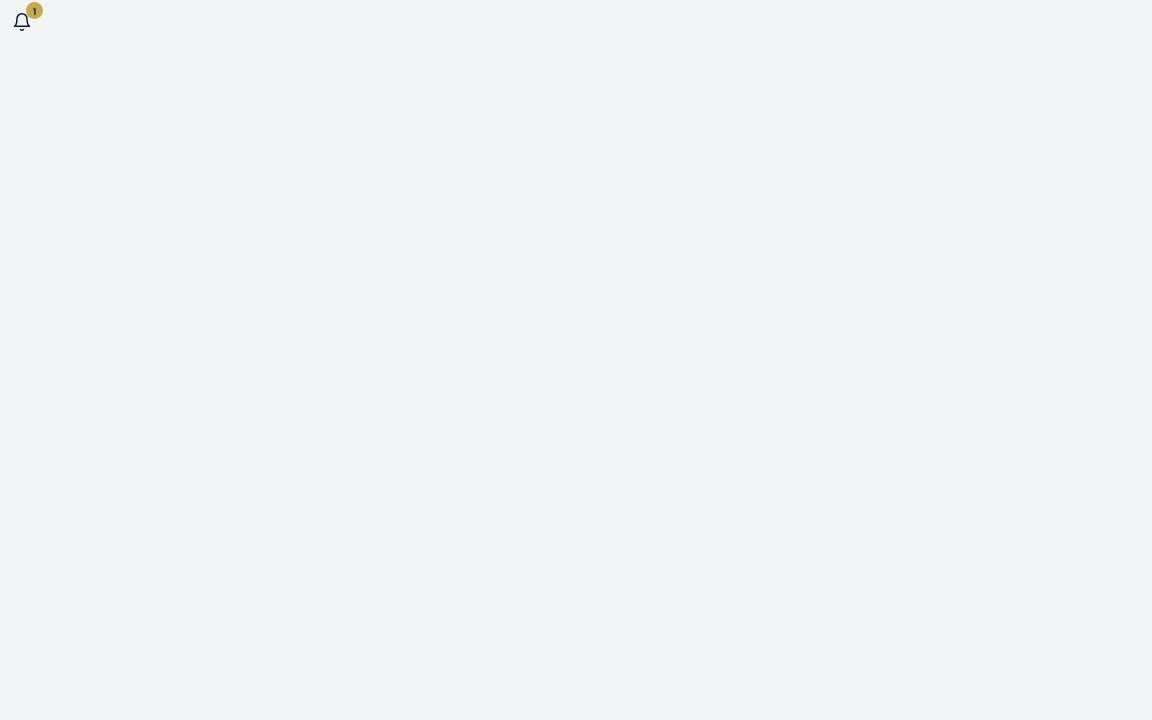
Test case: opens the whole linked message before offering to navigate to its related page
The width and height of the screenshot is (1152, 720).
Later steps or results of the test are not shown.
Click the button named "Notifications, 1 unread" at (22, 22), box [0,0,44,44]
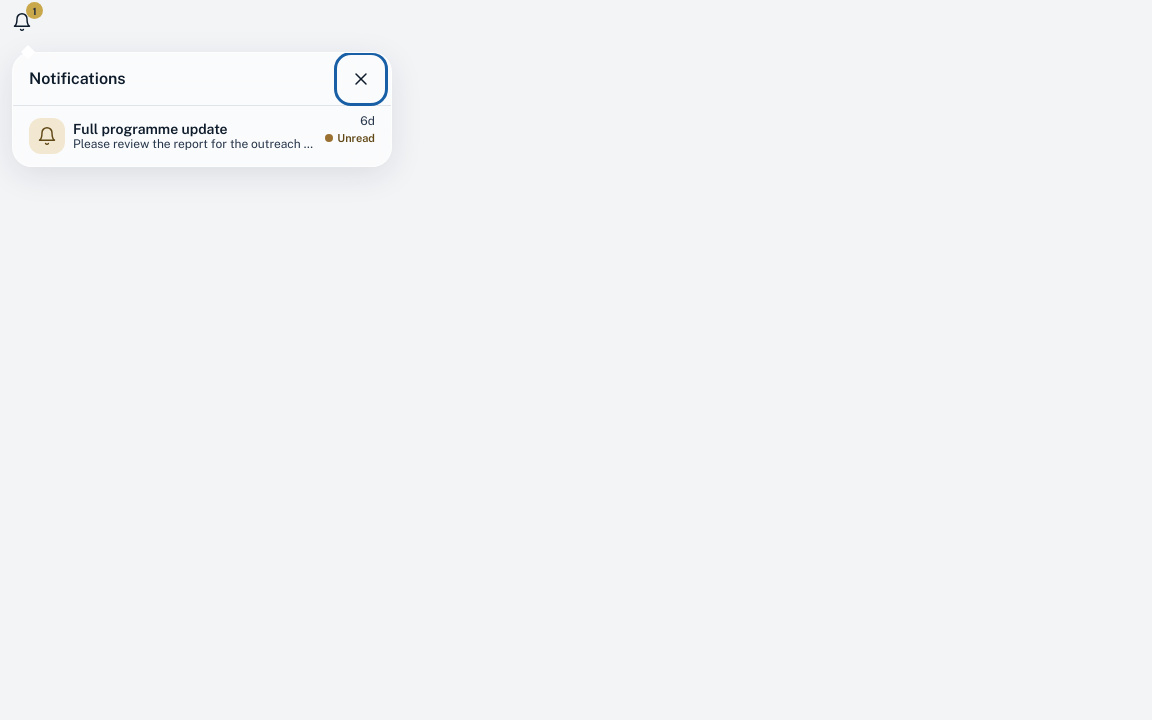
Click the button with aria-label "Full programme update, unread" at (202, 136), box [13,106,391,166]
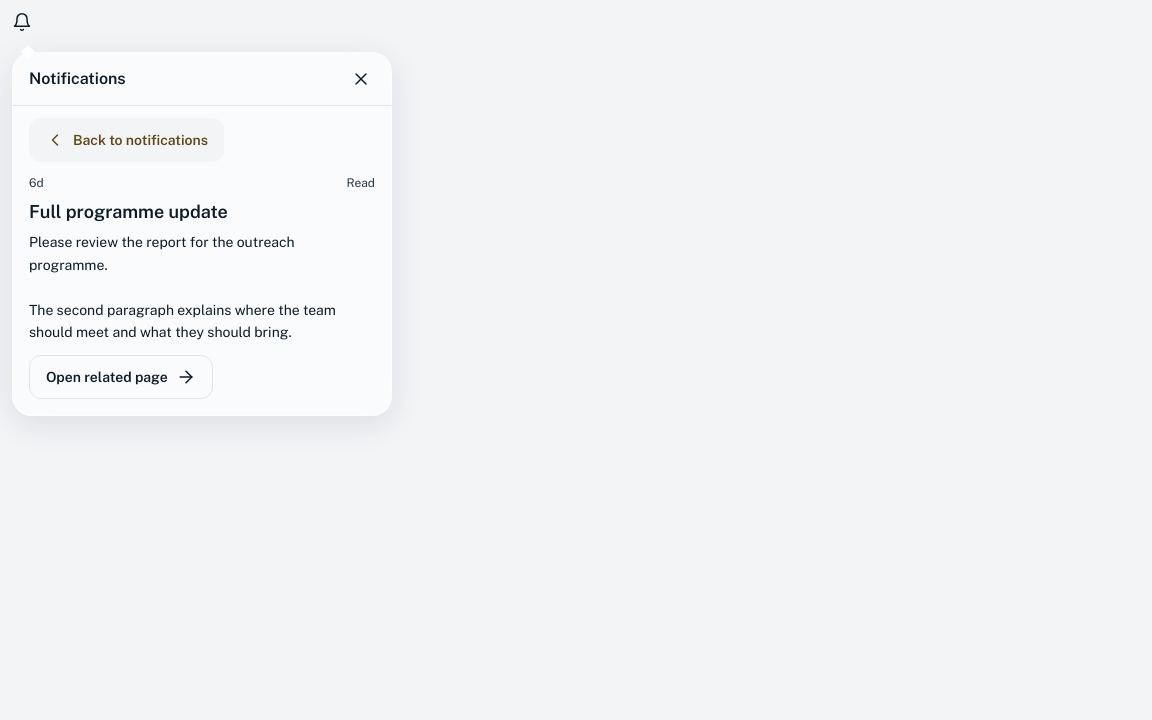
Now the text "Read" is shown, box [347,174,375,192]
Click the button "Back to notifications" at (126, 140), box [29,118,224,162]
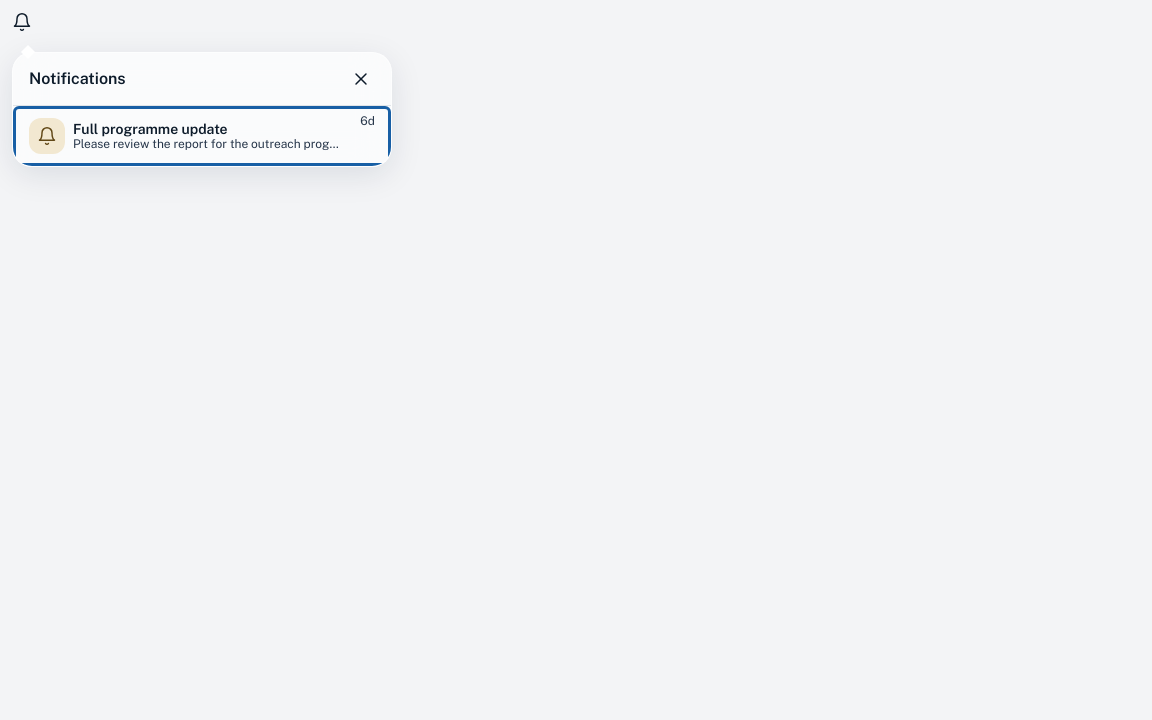
Click the button "Full programme update" at (202, 136), box [13,106,391,166]
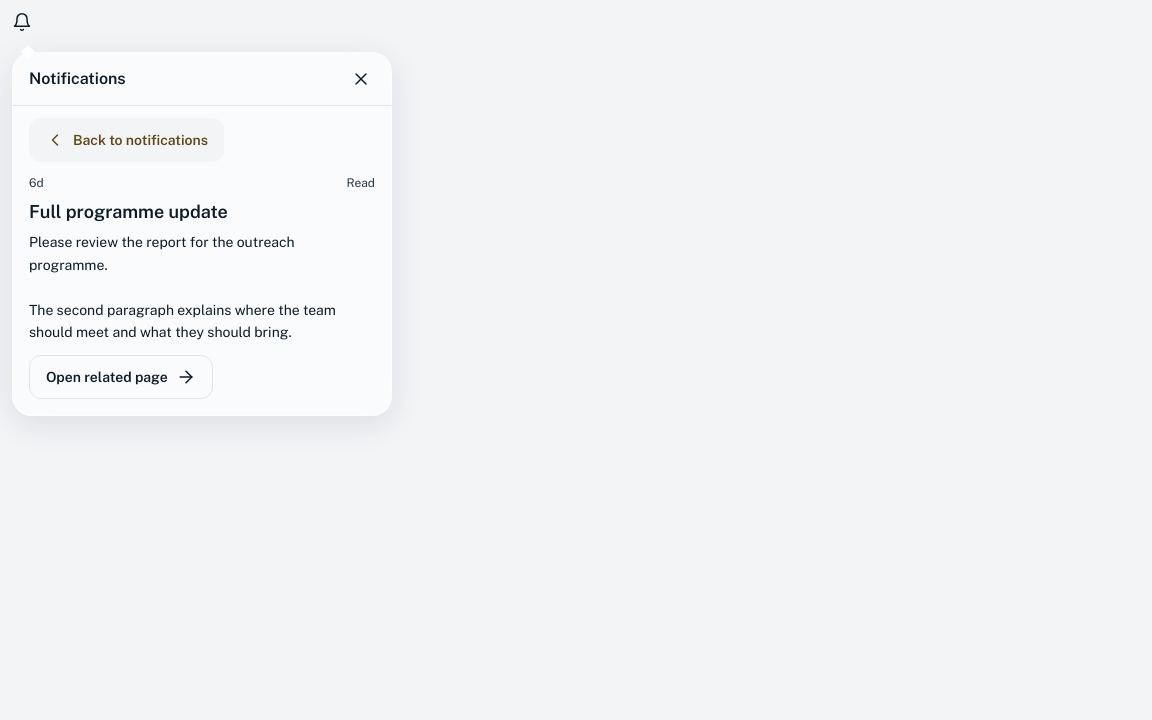
Click the button "Open related page" at (121, 377), box [29,355,213,399]
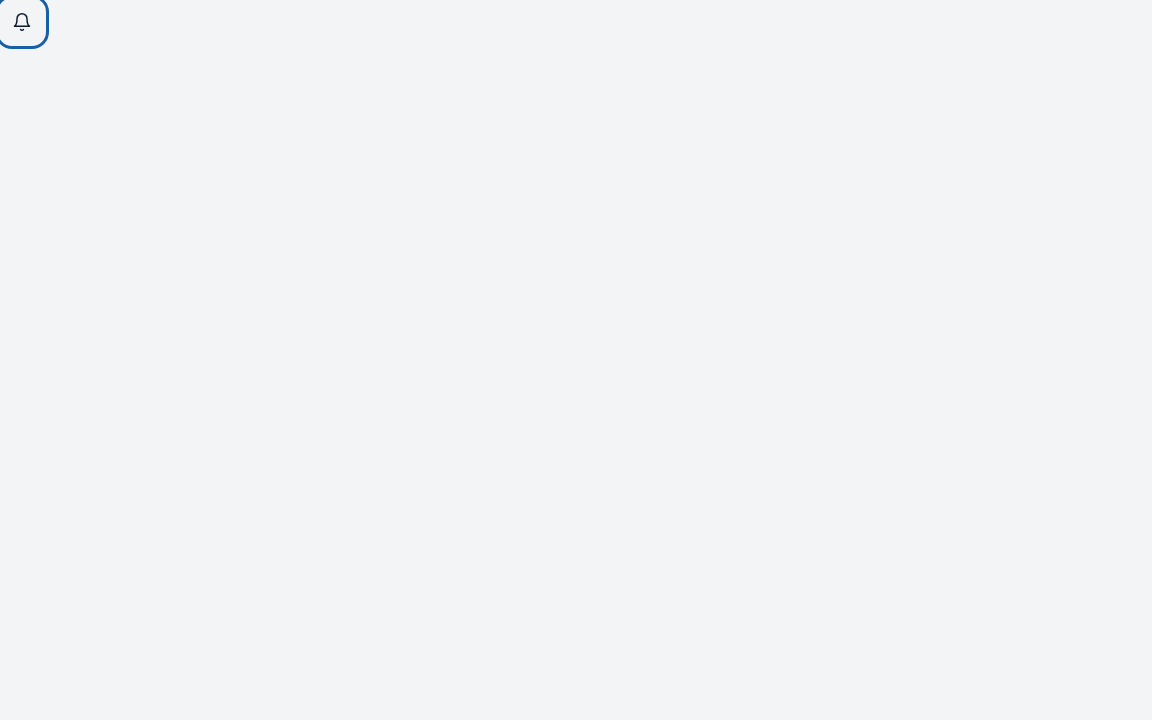
Now the dialog is gone
